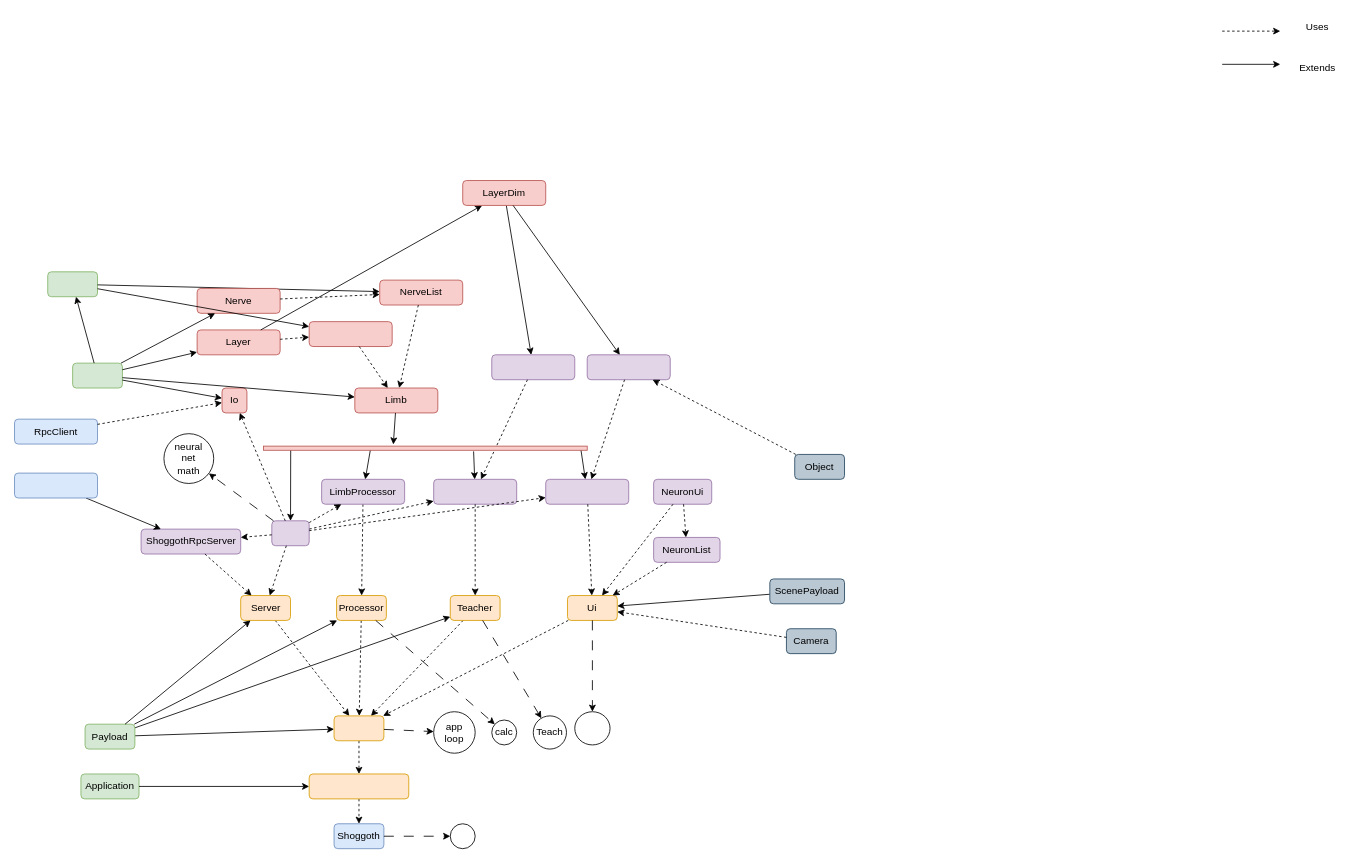
This 1357x863 diagram has some shape labels left out. Each missing label, with the centre of its shape:
"draw ui" goes at [592,728].
"Heap" goes at [72,284].
"LayerList" goes at [350,334].
"LayerTeacher" goes at [533,367].
"LayerUi" goes at [628,367].
"LimbTeacher" goes at [475,491].
"LimbUi" goes at [587,491].
"Loop" goes at [358,728].
"Net" goes at [290,533].
"Result" goes at [97,375].
"RpcServer" goes at [56,485].
"ShogothApplication" goes at [358,786].
"start" goes at [462,836].
